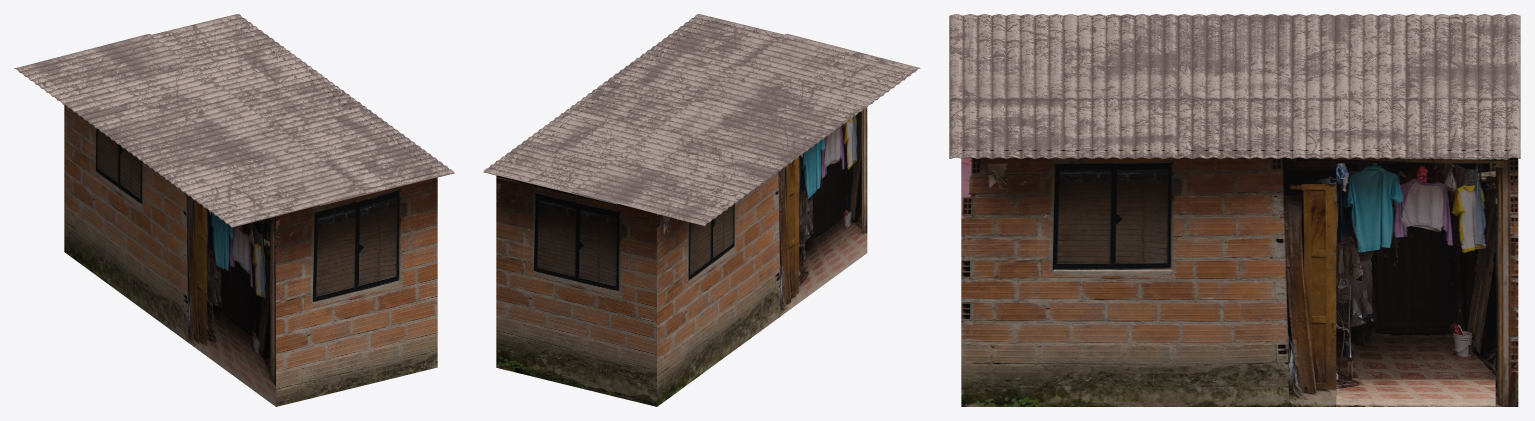
The model's file is casa_derecha_16B.fbx.
The picture shows the model from 3 angles, left to right: view 1: azimuth 30°, elevation 25°; view 2: azimuth 150°, elevation 25°; view 3: azimuth 270°, elevation 25°; orthographic projection. The views are drawn at different scales.
Visible parts, largest first — view 1: casa_derecha_16B, Techo 16.001; view 2: casa_derecha_16B, Techo 16.001; view 3: casa_derecha_16B, Techo 16.001.
Part boxes in pixels (bbox=[...]): casa_derecha_16B: bbox=[64, 18, 437, 406]; Techo 16.001: bbox=[14, 14, 454, 227]; casa_derecha_16B: bbox=[496, 20, 867, 406]; Techo 16.001: bbox=[483, 14, 920, 226]; casa_derecha_16B: bbox=[961, 150, 1518, 406]; Techo 16.001: bbox=[949, 14, 1520, 159].
Bounding box in the file's own units: 397 × 336 × 670.
